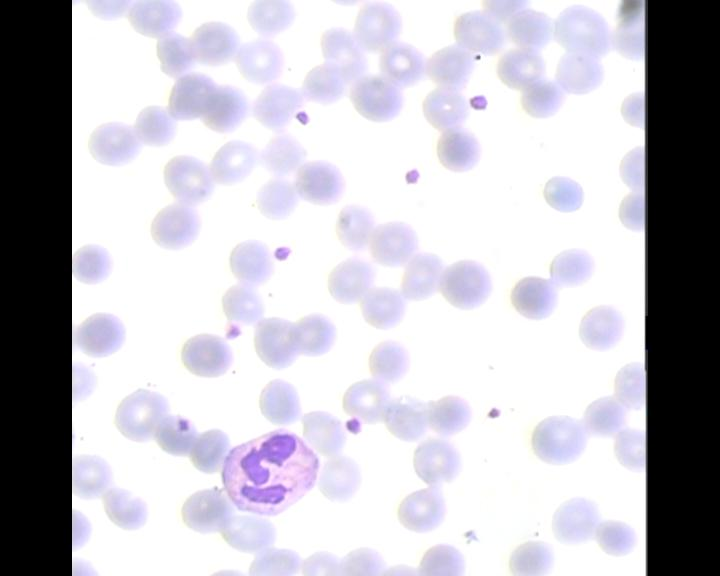neut: (223, 423, 321, 519)
